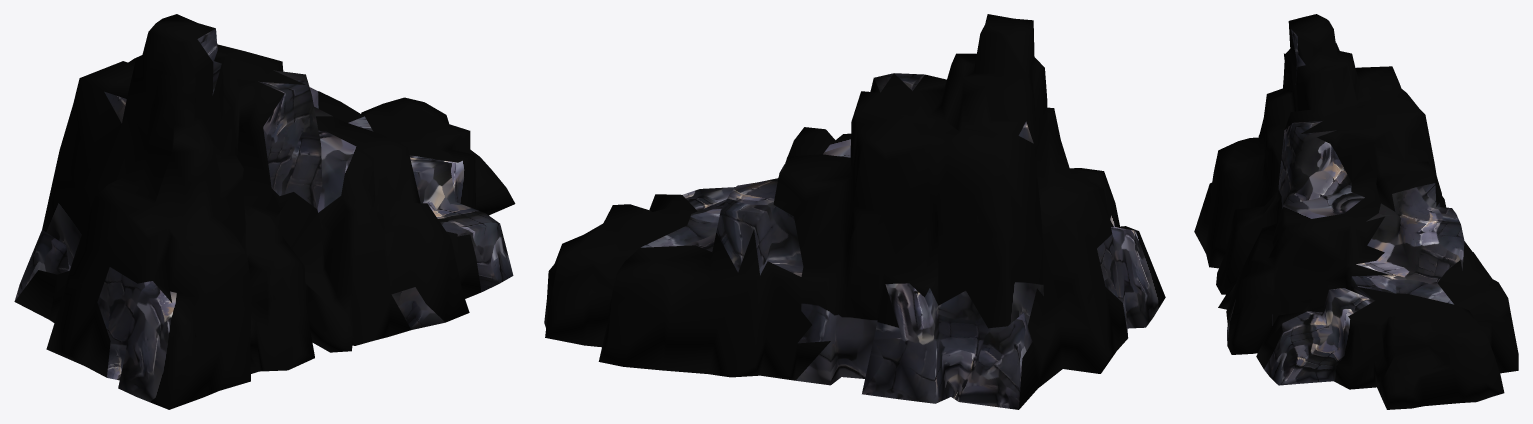
File: RIP0 (2).obj
3 views of the same model, side by side, from view 1: azimuth 30°, elevation 25°; view 2: azimuth 150°, elevation 25°; view 3: azimuth 270°, elevation 25° (orthographic). The views are drawn at different scales.
Parts seen in each view (by area): view 1: RIP0; view 2: RIP0; view 3: RIP0.
Boxes of the visible parts, left/top/right/bottom form: RIP0: left=14, top=14, right=515, bottom=409; RIP0: left=544, top=14, right=1165, bottom=409; RIP0: left=1194, top=14, right=1518, bottom=409.
Bounding box in the file's own units: 1 × 0.598 × 0.7215.
